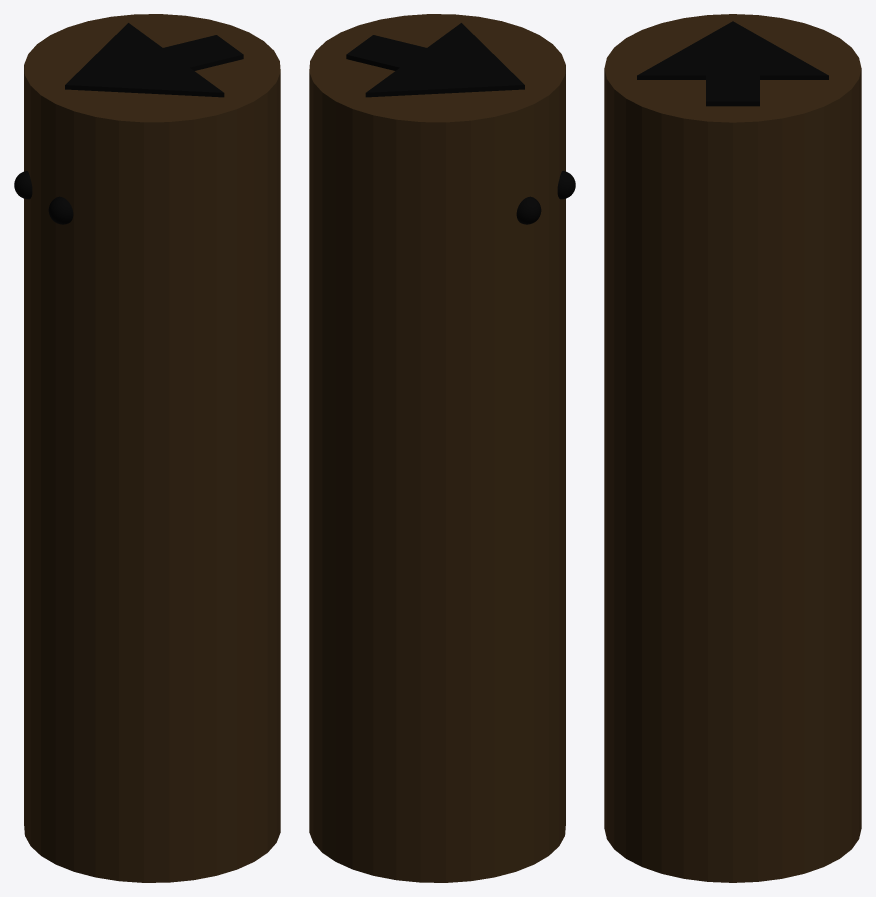
The model's file is cbrown.obj.
3 renders of one model, left to right at view 1: azimuth 30°, elevation 25°; view 2: azimuth 150°, elevation 25°; view 3: azimuth 270°, elevation 25°, orthographic.
Parts seen in each view (by area): view 1: Cylinder.011; view 2: Cylinder.011; view 3: Cylinder.011.
Part boxes in pixels (x1,y1,x2,y2): Cylinder.011: [14, 14, 280, 882]; Cylinder.011: [309, 14, 575, 882]; Cylinder.011: [604, 14, 861, 882].
Bounding box in the file's own units: 0.1612 × 0.5117 × 0.1559.
